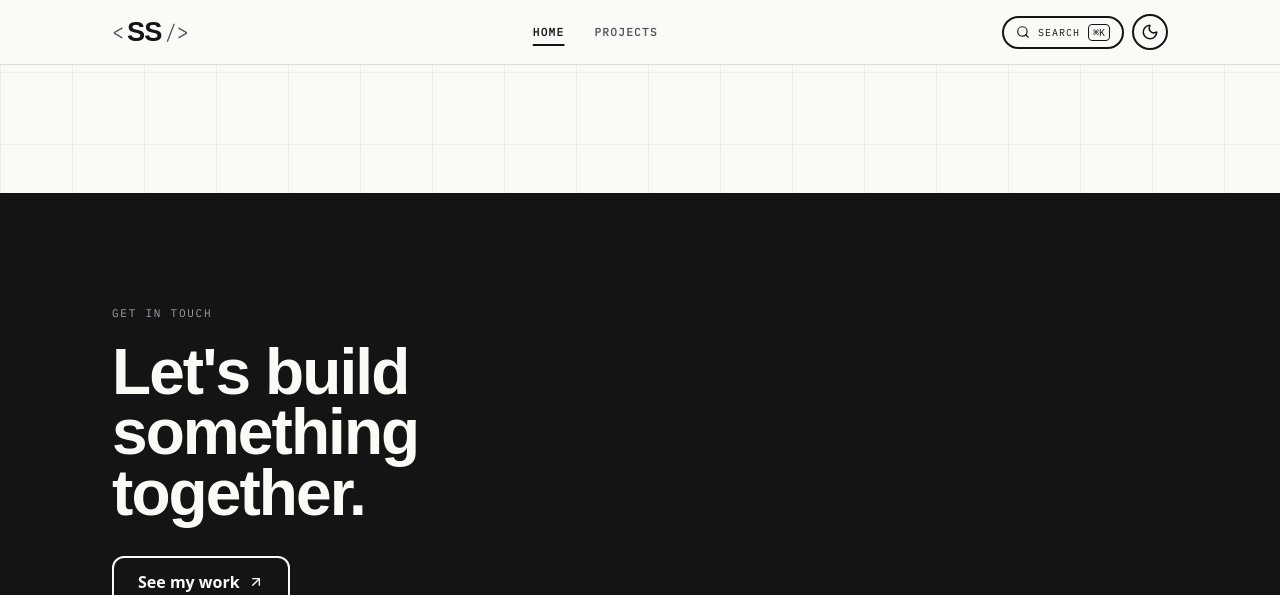
Scenario: AppRouter › navigates to the Projects page via the header navigation
What coordinates should you click on to do the following:
click the link "Projects"
I would click on:
 (626, 32)
Its box is [594,25,658,39].
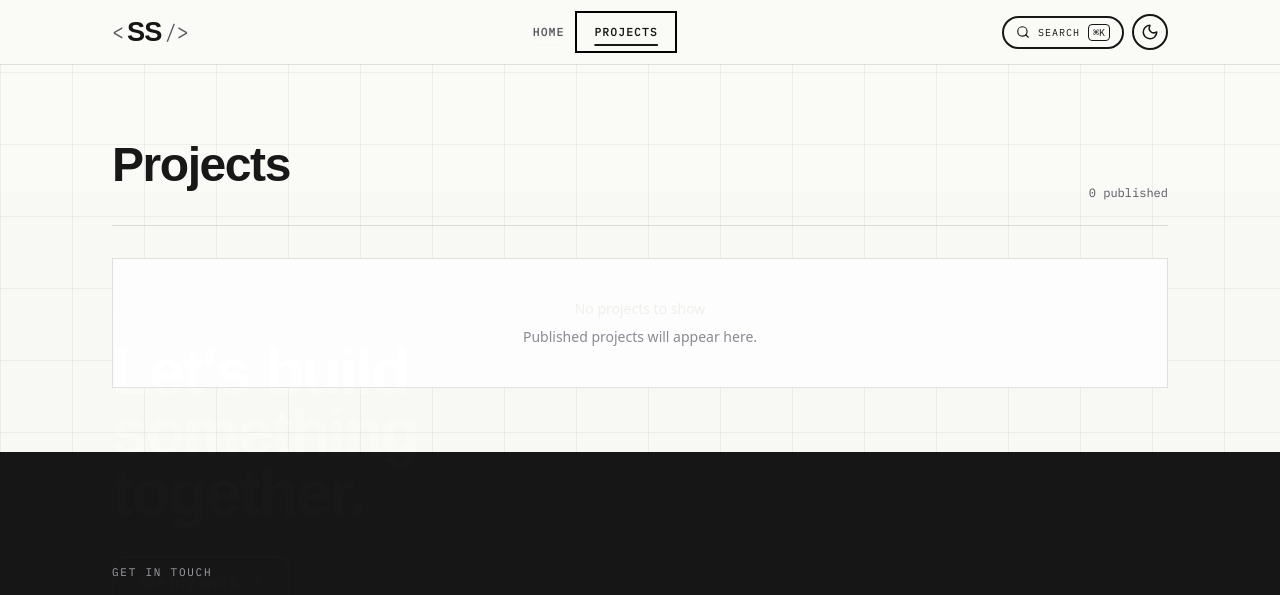
Now the heading "Projects" is shown, box [112,129,290,201]
